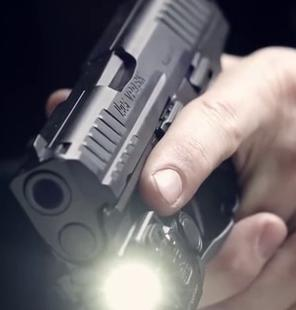gun: (1, 0, 296, 310)
